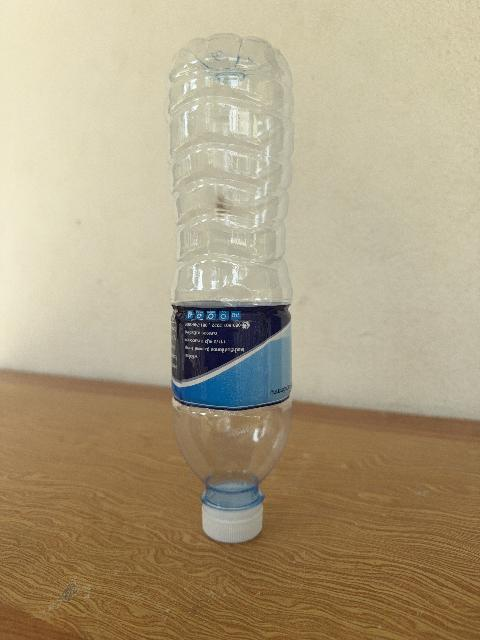bottle: (166, 34, 293, 542)
